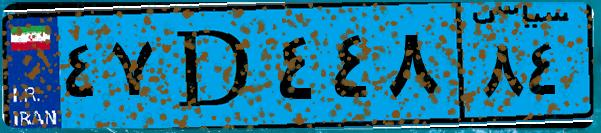4: (270, 28, 330, 110), (330, 28, 385, 110), (57, 26, 110, 100), (525, 38, 570, 115)
7: (110, 28, 158, 98)
8: (385, 28, 445, 110), (475, 38, 525, 113)
D: (158, 12, 270, 120)
